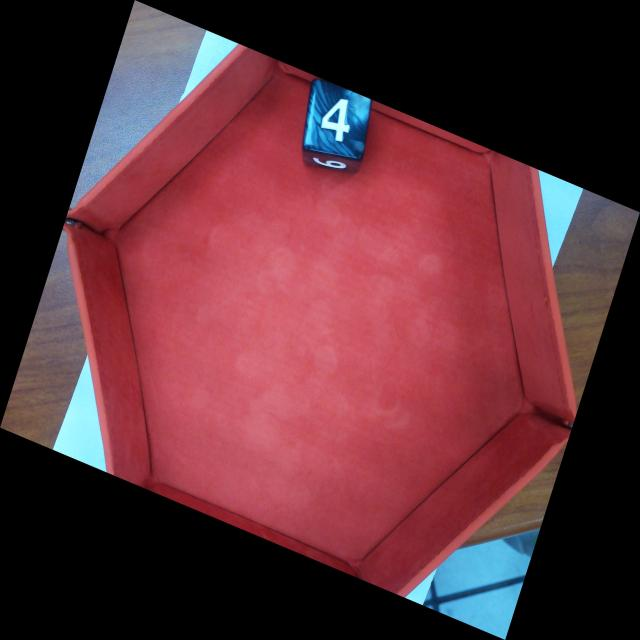dice: (301, 75, 373, 163)
